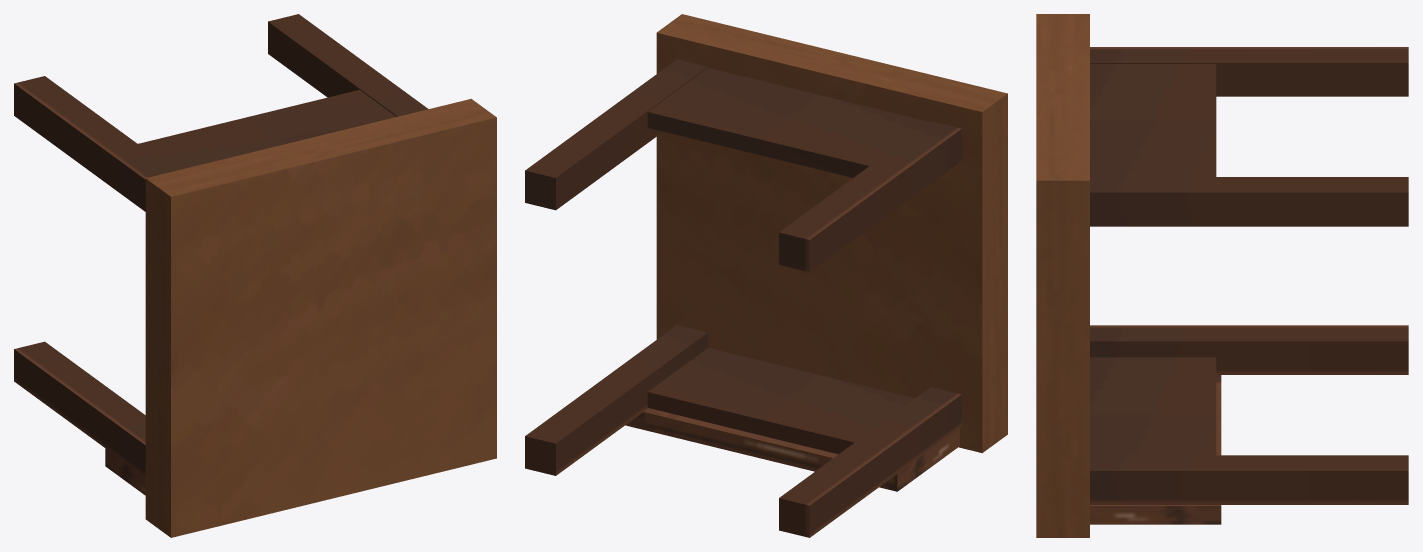
The model's file is pz_table_storage_01_small.obj.
3 views of the same model, side by side, from view 1: azimuth 30°, elevation 25°; view 2: azimuth 150°, elevation 25°; view 3: azimuth 270°, elevation 25° (orthographic). The views are drawn at different scales.
Bounding box in the file's own units: 0.625 × 0.625 × 0.59.
1 material, 1 textured.
